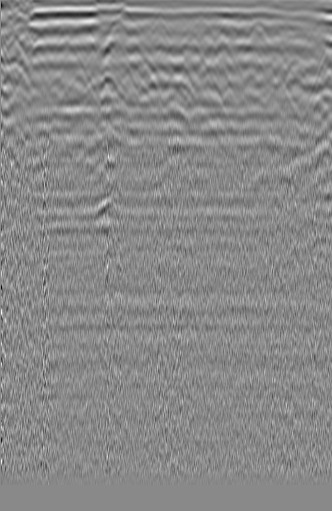가스: (92, 195, 123, 226)
상수: (0, 32, 31, 61)
오수: (296, 31, 328, 62)
우수: (148, 9, 175, 46)
